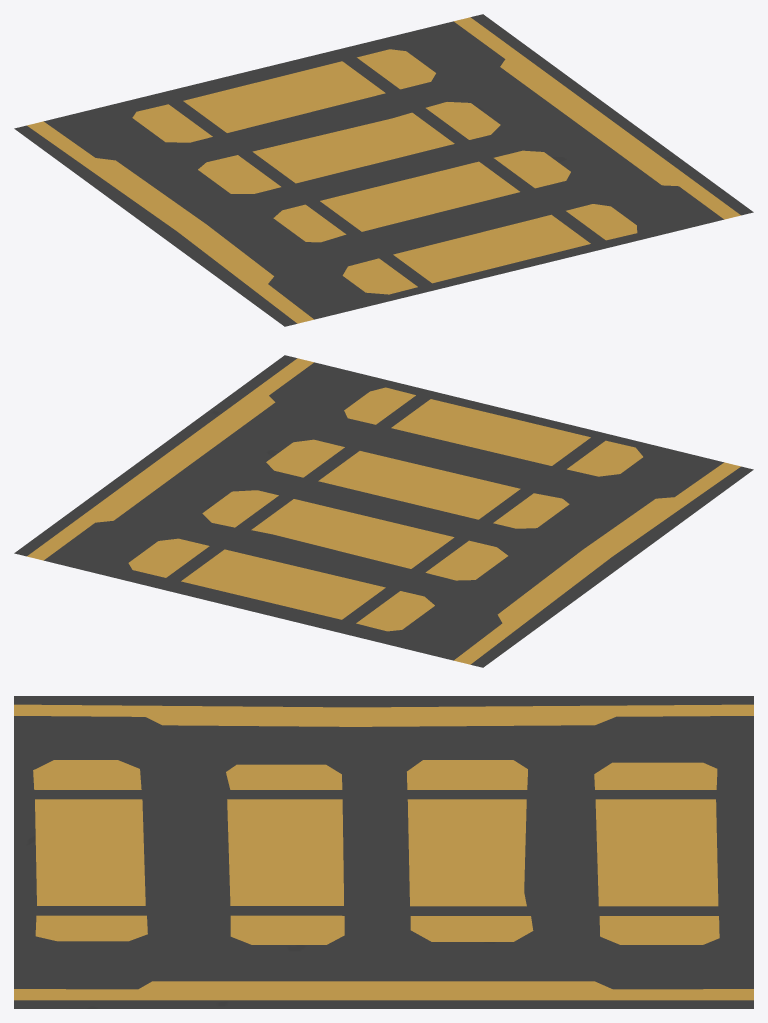
File: SM_Env_Road_Crossing_02_SF.fbx
3 views of the same model, one above another, from view 1: azimuth 30°, elevation 25°; view 2: azimuth 150°, elevation 25°; view 3: azimuth 270°, elevation 25° (orthographic). The views are drawn at different scales.
Parts seen in each view (by area): view 1: SM_Env_Road_Crossing_02_SF; view 2: SM_Env_Road_Crossing_02_SF; view 3: SM_Env_Road_Crossing_02_SF.
Boxes of the visible parts, bbox=[...] form: SM_Env_Road_Crossing_02_SF: bbox=[14, 14, 753, 326]; SM_Env_Road_Crossing_02_SF: bbox=[14, 355, 753, 667]; SM_Env_Road_Crossing_02_SF: bbox=[14, 696, 753, 1008].
Bounding box in the file's own units: 500 × 1.22e-05 × 500.
